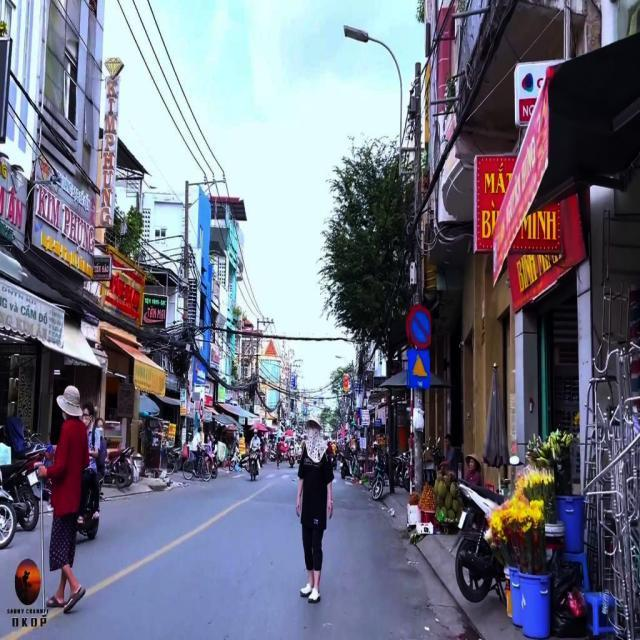106-cam-oto-tai: (200, 398, 204, 418)
131a-cam-do-xe: (406, 304, 434, 348)
442-cho: (406, 348, 429, 388)
